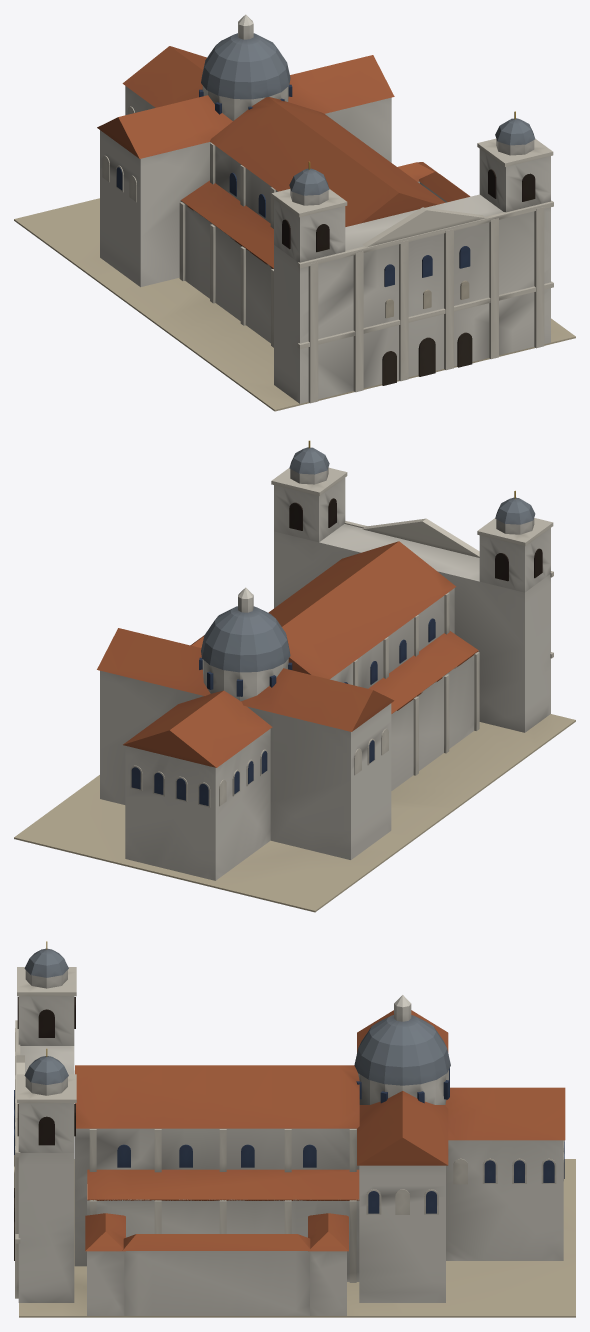
File: sao-vicente.glb
The picture shows the model from 3 angles, top to bottom: view 1: azimuth 30°, elevation 25°; view 2: azimuth 150°, elevation 25°; view 3: azimuth 270°, elevation 25°; orthographic projection. The views are drawn at different scales.
Parts seen in each view (by area): view 1: p2_front and dome, p1_church, p0_ground; view 2: p1_church, p2_front and dome, p0_ground; view 3: p1_church, p2_front and dome, p0_ground.
Part boxes in pixels (x1,y1,x2,y2): p2_front and dome: (199, 14, 553, 403); p1_church: (97, 46, 470, 347); p0_ground: (14, 198, 575, 411); p1_church: (97, 541, 479, 880); p2_front and dome: (199, 440, 553, 732); p0_ground: (14, 714, 575, 912); p1_church: (74, 1010, 565, 1315); p2_front and dome: (14, 941, 450, 1302); p0_ground: (19, 1159, 575, 1317).
Size of the model in its own units: 60.3 by 43.6 by 90.8.
